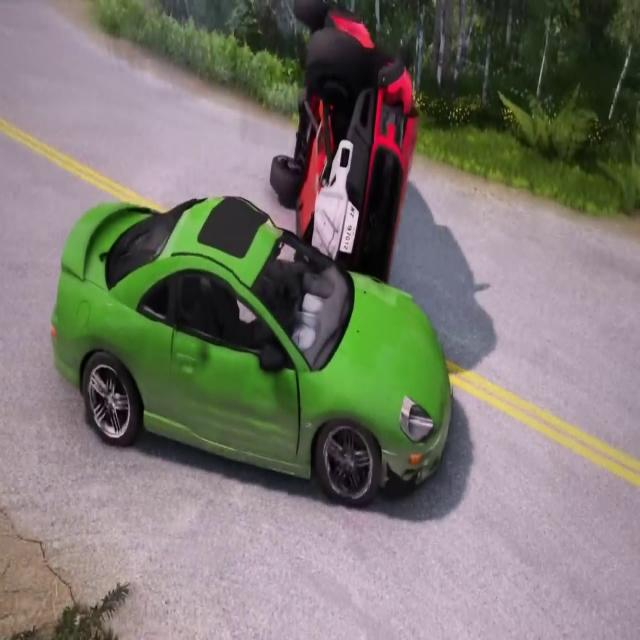accident: (49, 0, 457, 503)
